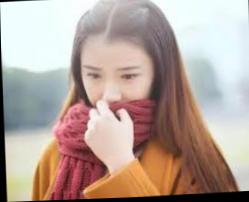WRONG: (81, 54, 153, 127)
